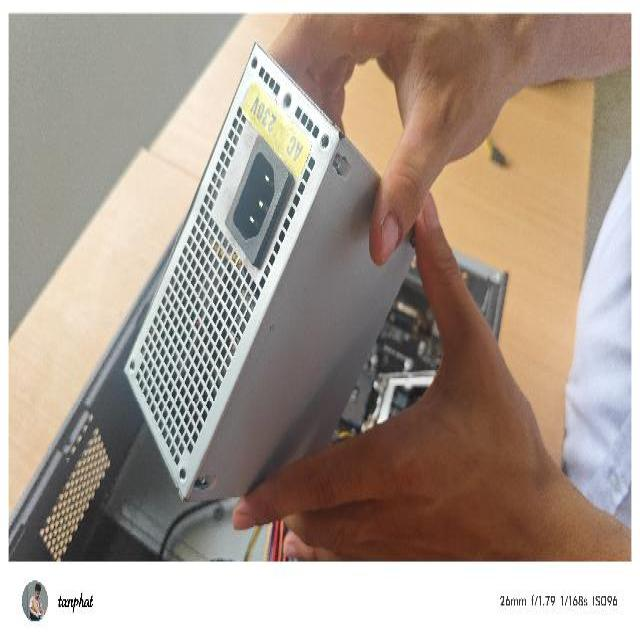PSU: (122, 37, 424, 520)
